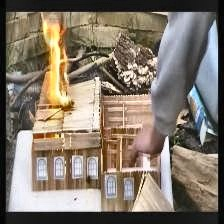fire: (40, 20, 75, 108)
